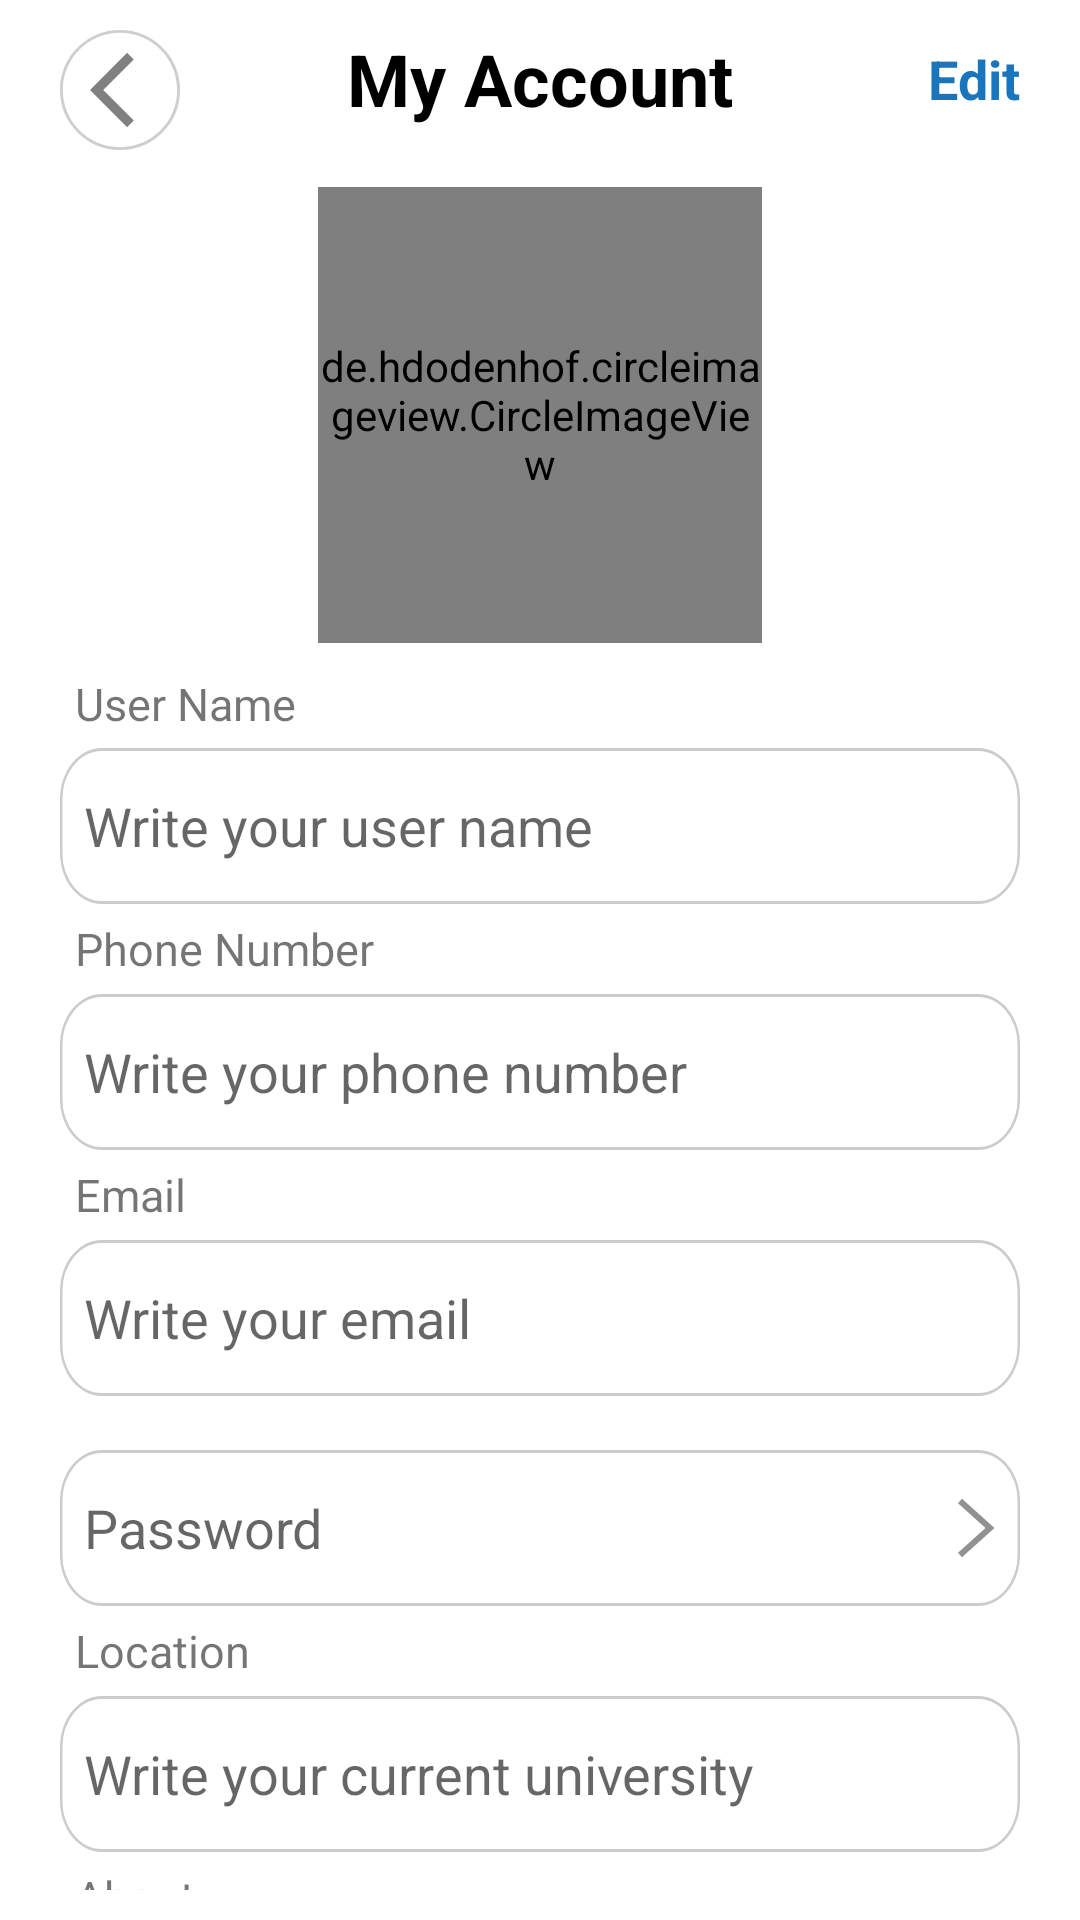

Icons on this 1080w x 1920h Android screen, each with the point to tap as (x,y):
back: (120,90)
